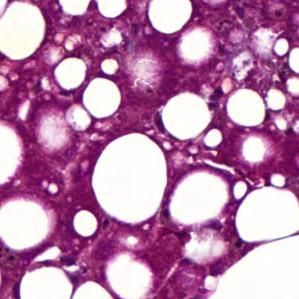steatosis: (90, 129, 168, 224), (155, 88, 217, 140), (83, 77, 122, 117), (52, 57, 87, 88)
